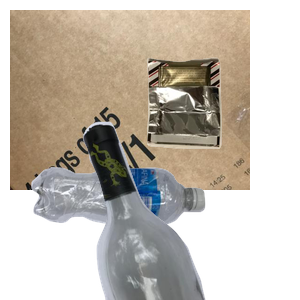cardboard: (10, 10, 250, 190)
glass: (81, 120, 300, 300)
plastic: (29, 165, 227, 300)
trash: (144, 55, 300, 197)
